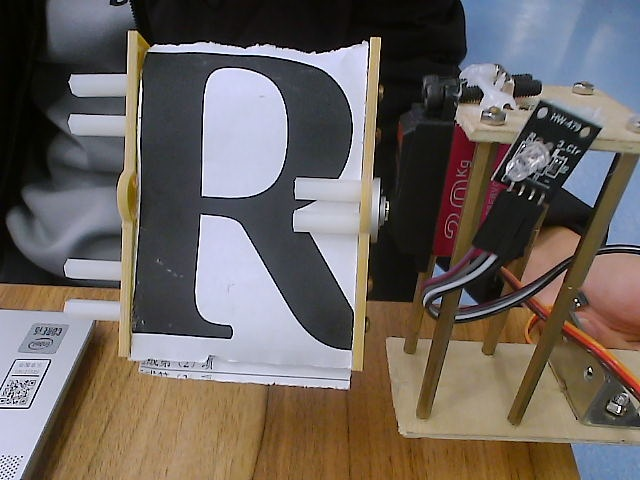R: (59, 22, 420, 415)
